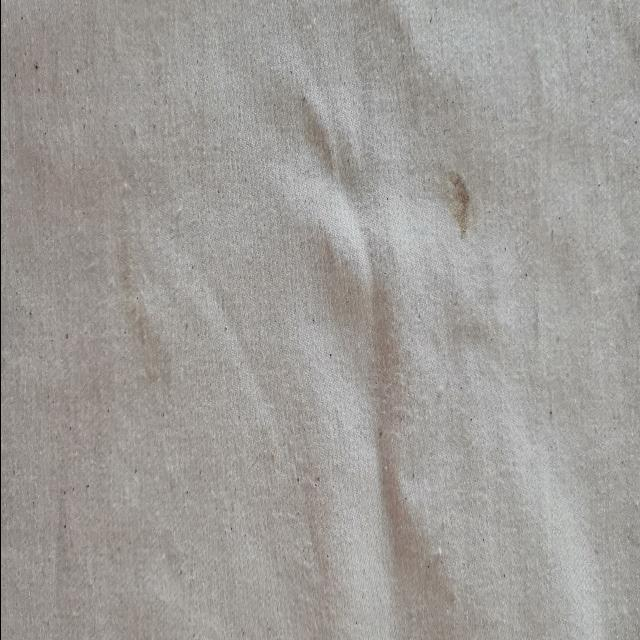taaaches: (426, 157, 484, 254)
